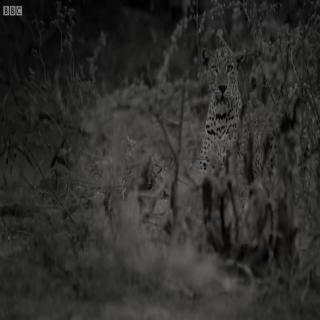Leopard: (194, 28, 252, 167)
